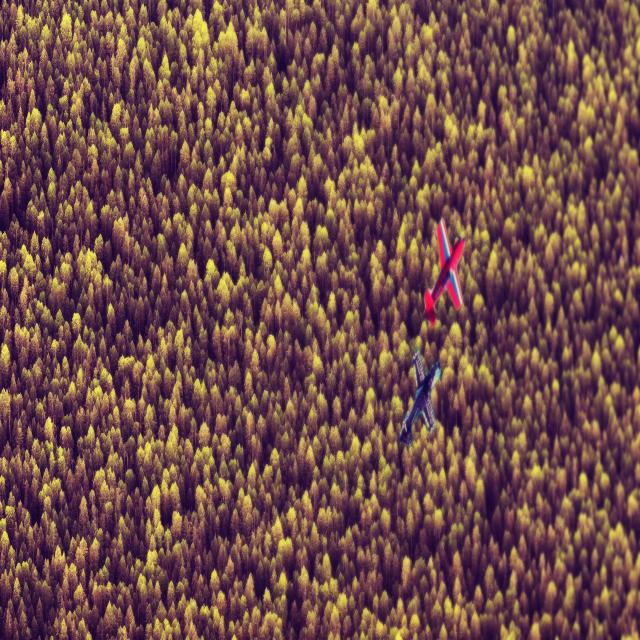airplane: (423, 217, 465, 326), (398, 349, 441, 446)
